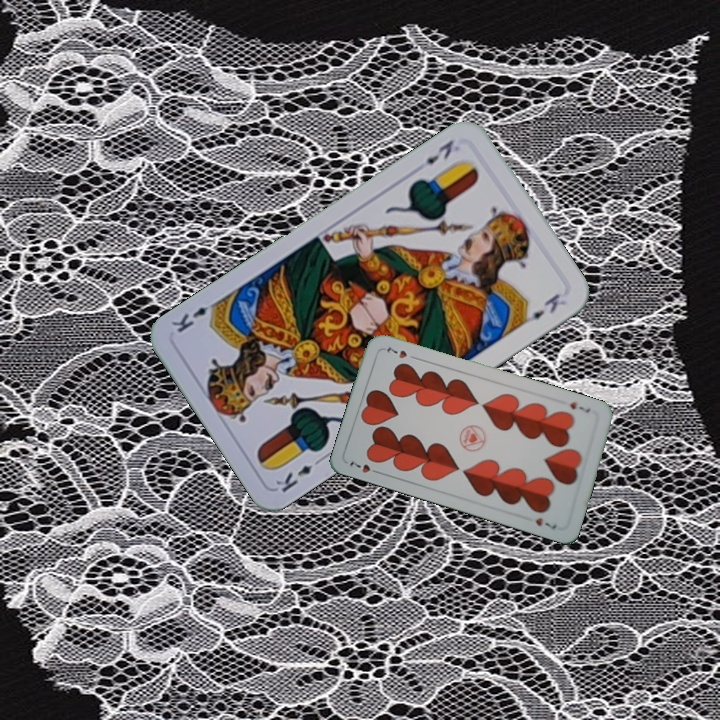EK: (271, 453, 326, 495), (421, 135, 457, 167)
H7: (345, 457, 384, 477), (566, 398, 593, 416)
